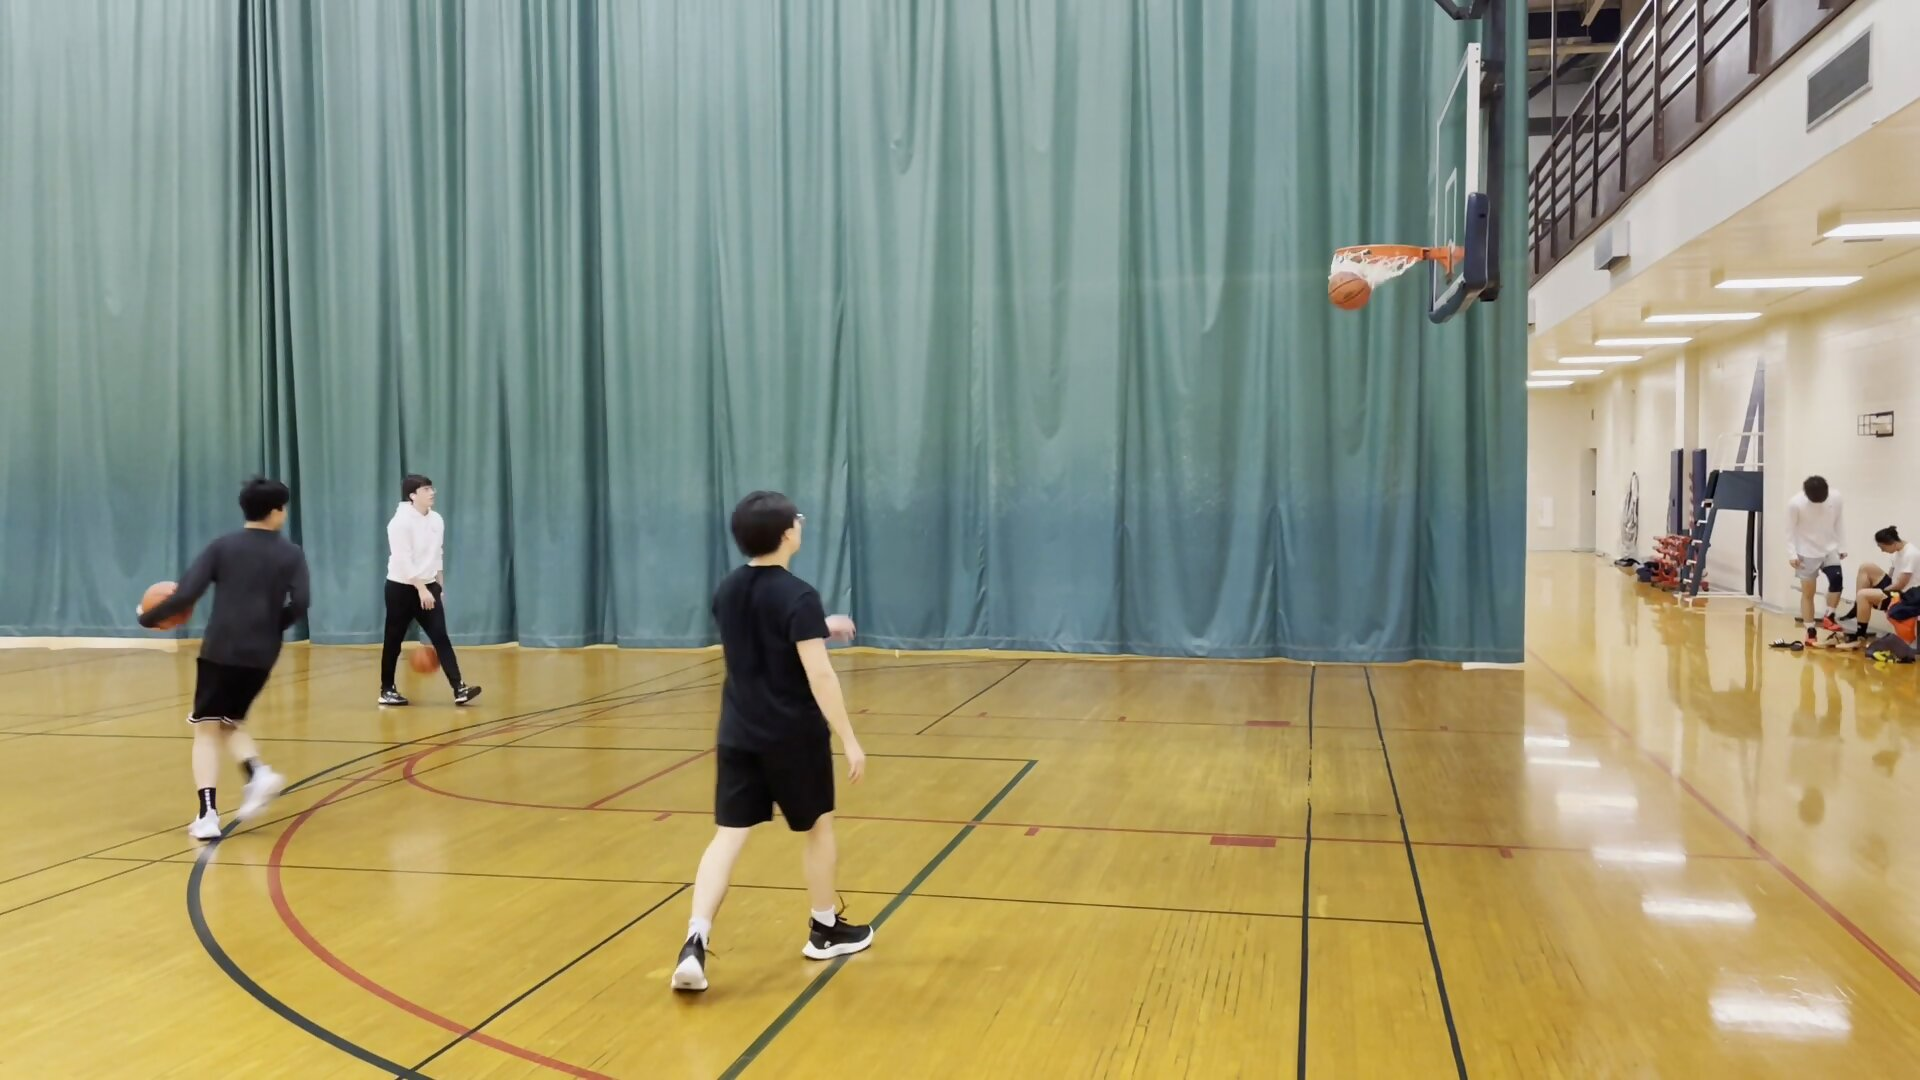ball: (136, 579, 195, 625), (1325, 272, 1376, 314), (408, 641, 444, 678)
net: (1324, 254, 1416, 284)
player: (676, 487, 879, 995), (157, 474, 306, 844), (376, 469, 487, 711), (1782, 474, 1851, 644), (1849, 527, 1920, 644)
rim: (1326, 238, 1430, 264)
